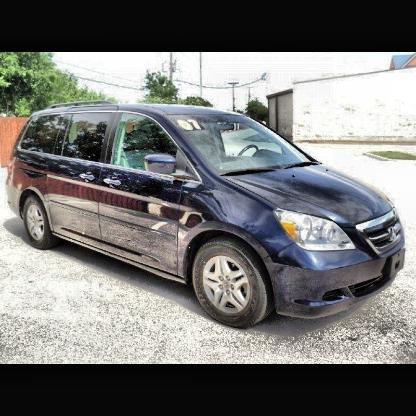Honda Odyssey Minivan 2007: (6, 101, 408, 331)
